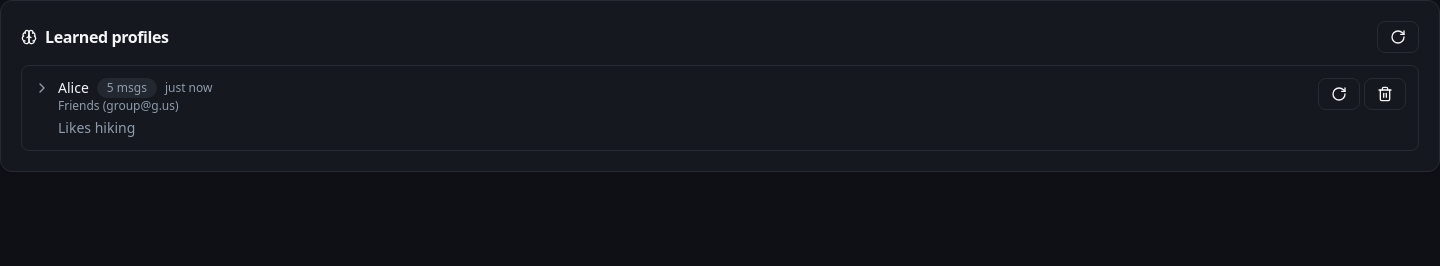
Test: profile error states › shows failed dossier loading and supports retry
Step 1. Click the button named "Expand" → (42, 88), box [34, 80, 50, 96]
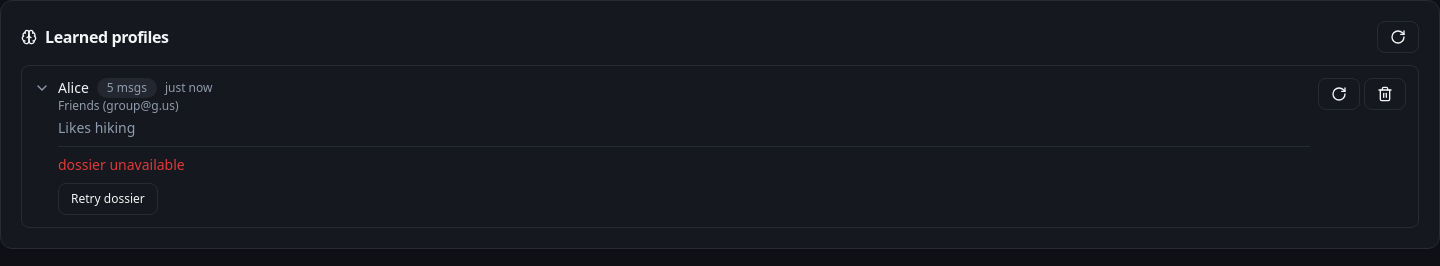
Now the message reads "dossier unavailable", box [58, 155, 185, 174]
Step 2. Click the button "Retry dossier" → (108, 199), box [58, 183, 158, 215]
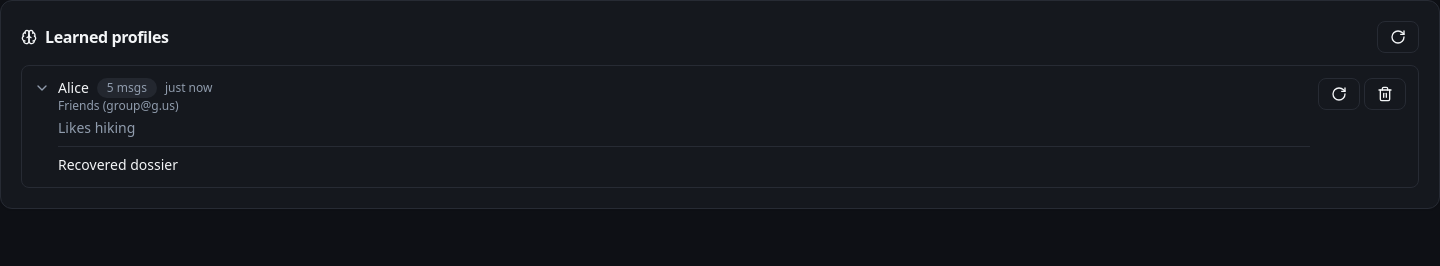
Now the text "Recovered dossier" is shown, box [58, 155, 178, 174]
